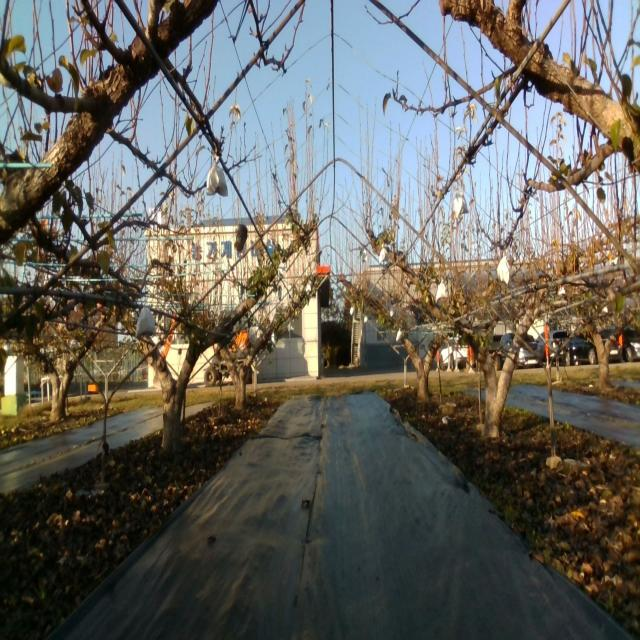pearbags: (205, 153, 228, 198), (136, 304, 158, 338), (453, 190, 468, 219), (496, 255, 510, 285), (435, 279, 448, 303)
